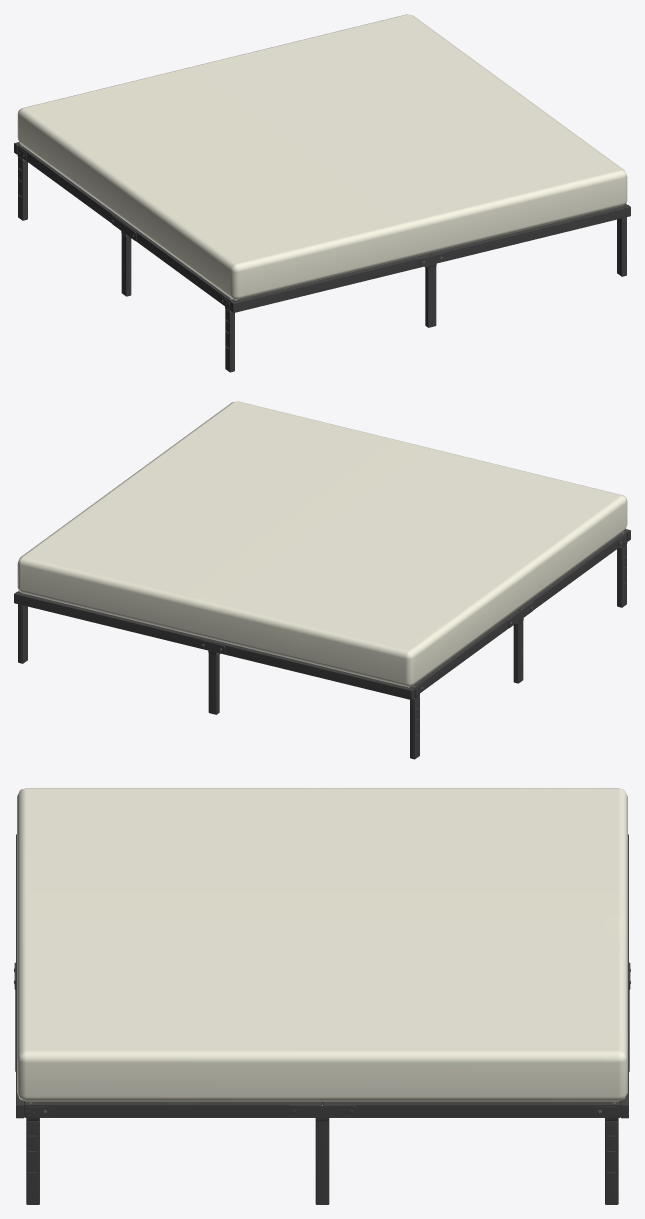
Rendered from abo-B07K6V2MFZ.glb.
The picture shows the model from 3 angles, top to bottom: view 1: azimuth 30°, elevation 25°; view 2: azimuth 150°, elevation 25°; view 3: azimuth 270°, elevation 25°; orthographic projection. The views are drawn at different scales.
Size of the model in its own units: 2.64 by 0.68 by 2.53.
Materials: 1 (1 with a texture image).
